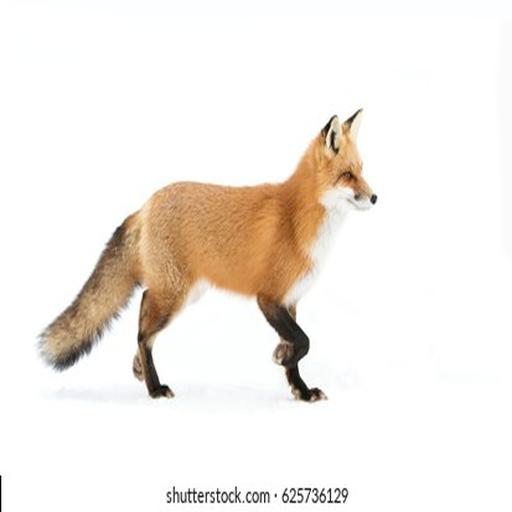Fox: (32, 110, 379, 405)
